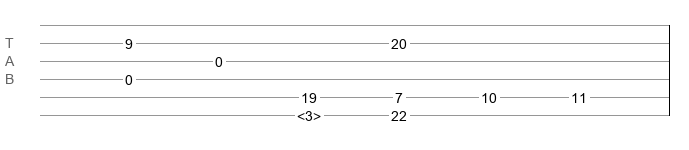0: (125, 72, 133, 82), (215, 54, 223, 64)
10: (481, 90, 497, 100)
11: (571, 90, 587, 100)
19: (301, 90, 317, 100)
20: (391, 36, 407, 46)
22: (391, 108, 407, 118)
7: (395, 90, 403, 100)
9: (125, 36, 133, 46)
harmonic: (297, 108, 321, 118)
